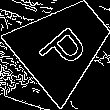P_NE: (33, 14, 94, 75)
